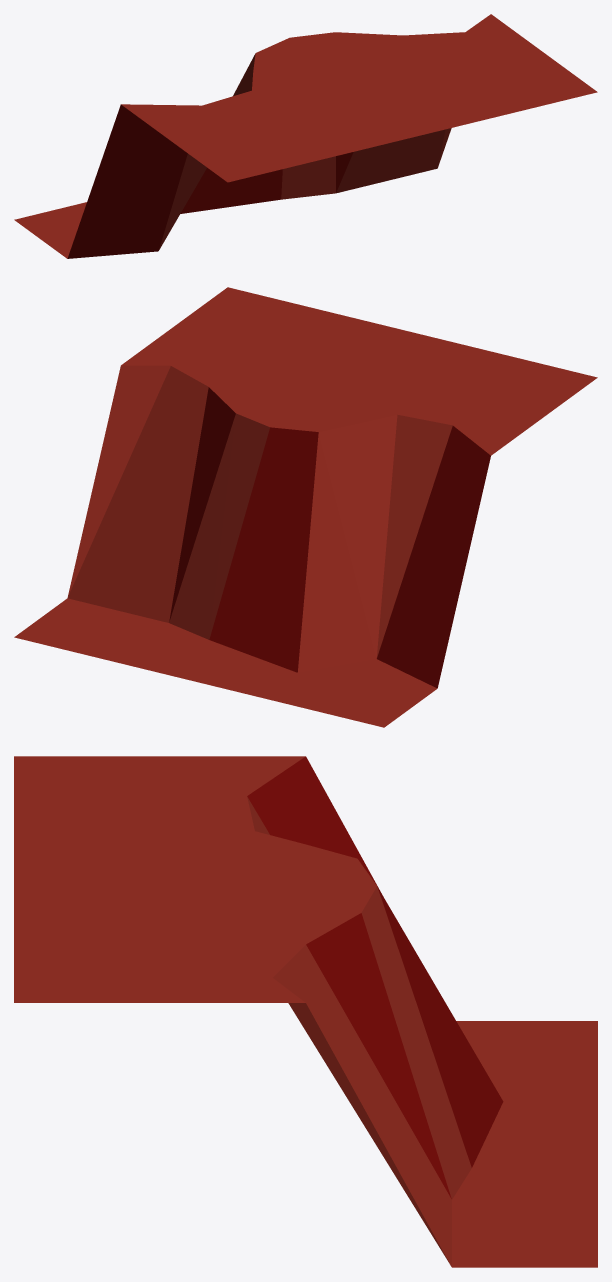
The model's file is Border_4.fbx.
The picture shows the model from 3 angles, top to bottom: view 1: azimuth 30°, elevation 25°; view 2: azimuth 150°, elevation 25°; view 3: azimuth 270°, elevation 25°; orthographic projection. The views are drawn at different scales.
Parts seen in each view (by area): view 1: Plane.041; view 2: Plane.041; view 3: Plane.041.
Boxes of the visible parts, x1,y1,x2,y2 form: Plane.041: (14,14,597,258); Plane.041: (14,287,597,727); Plane.041: (14,756,597,1267).
Size of the model in its own units: 200 by 100 by 200.
